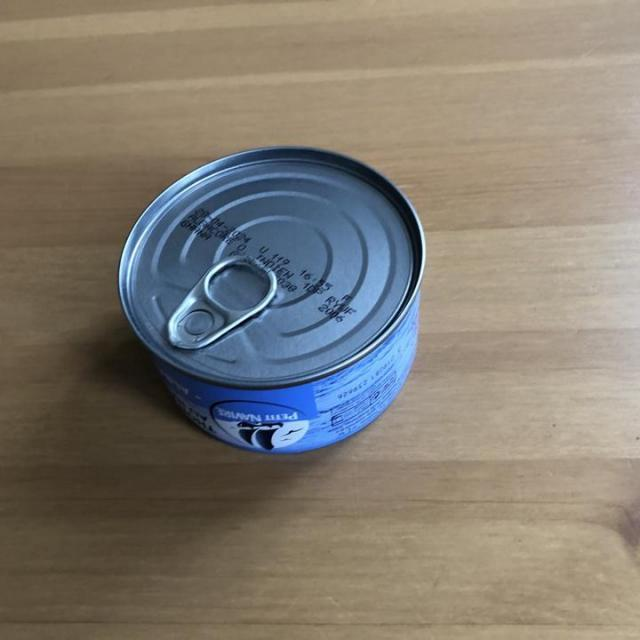metal-can: (118, 143, 427, 455)
